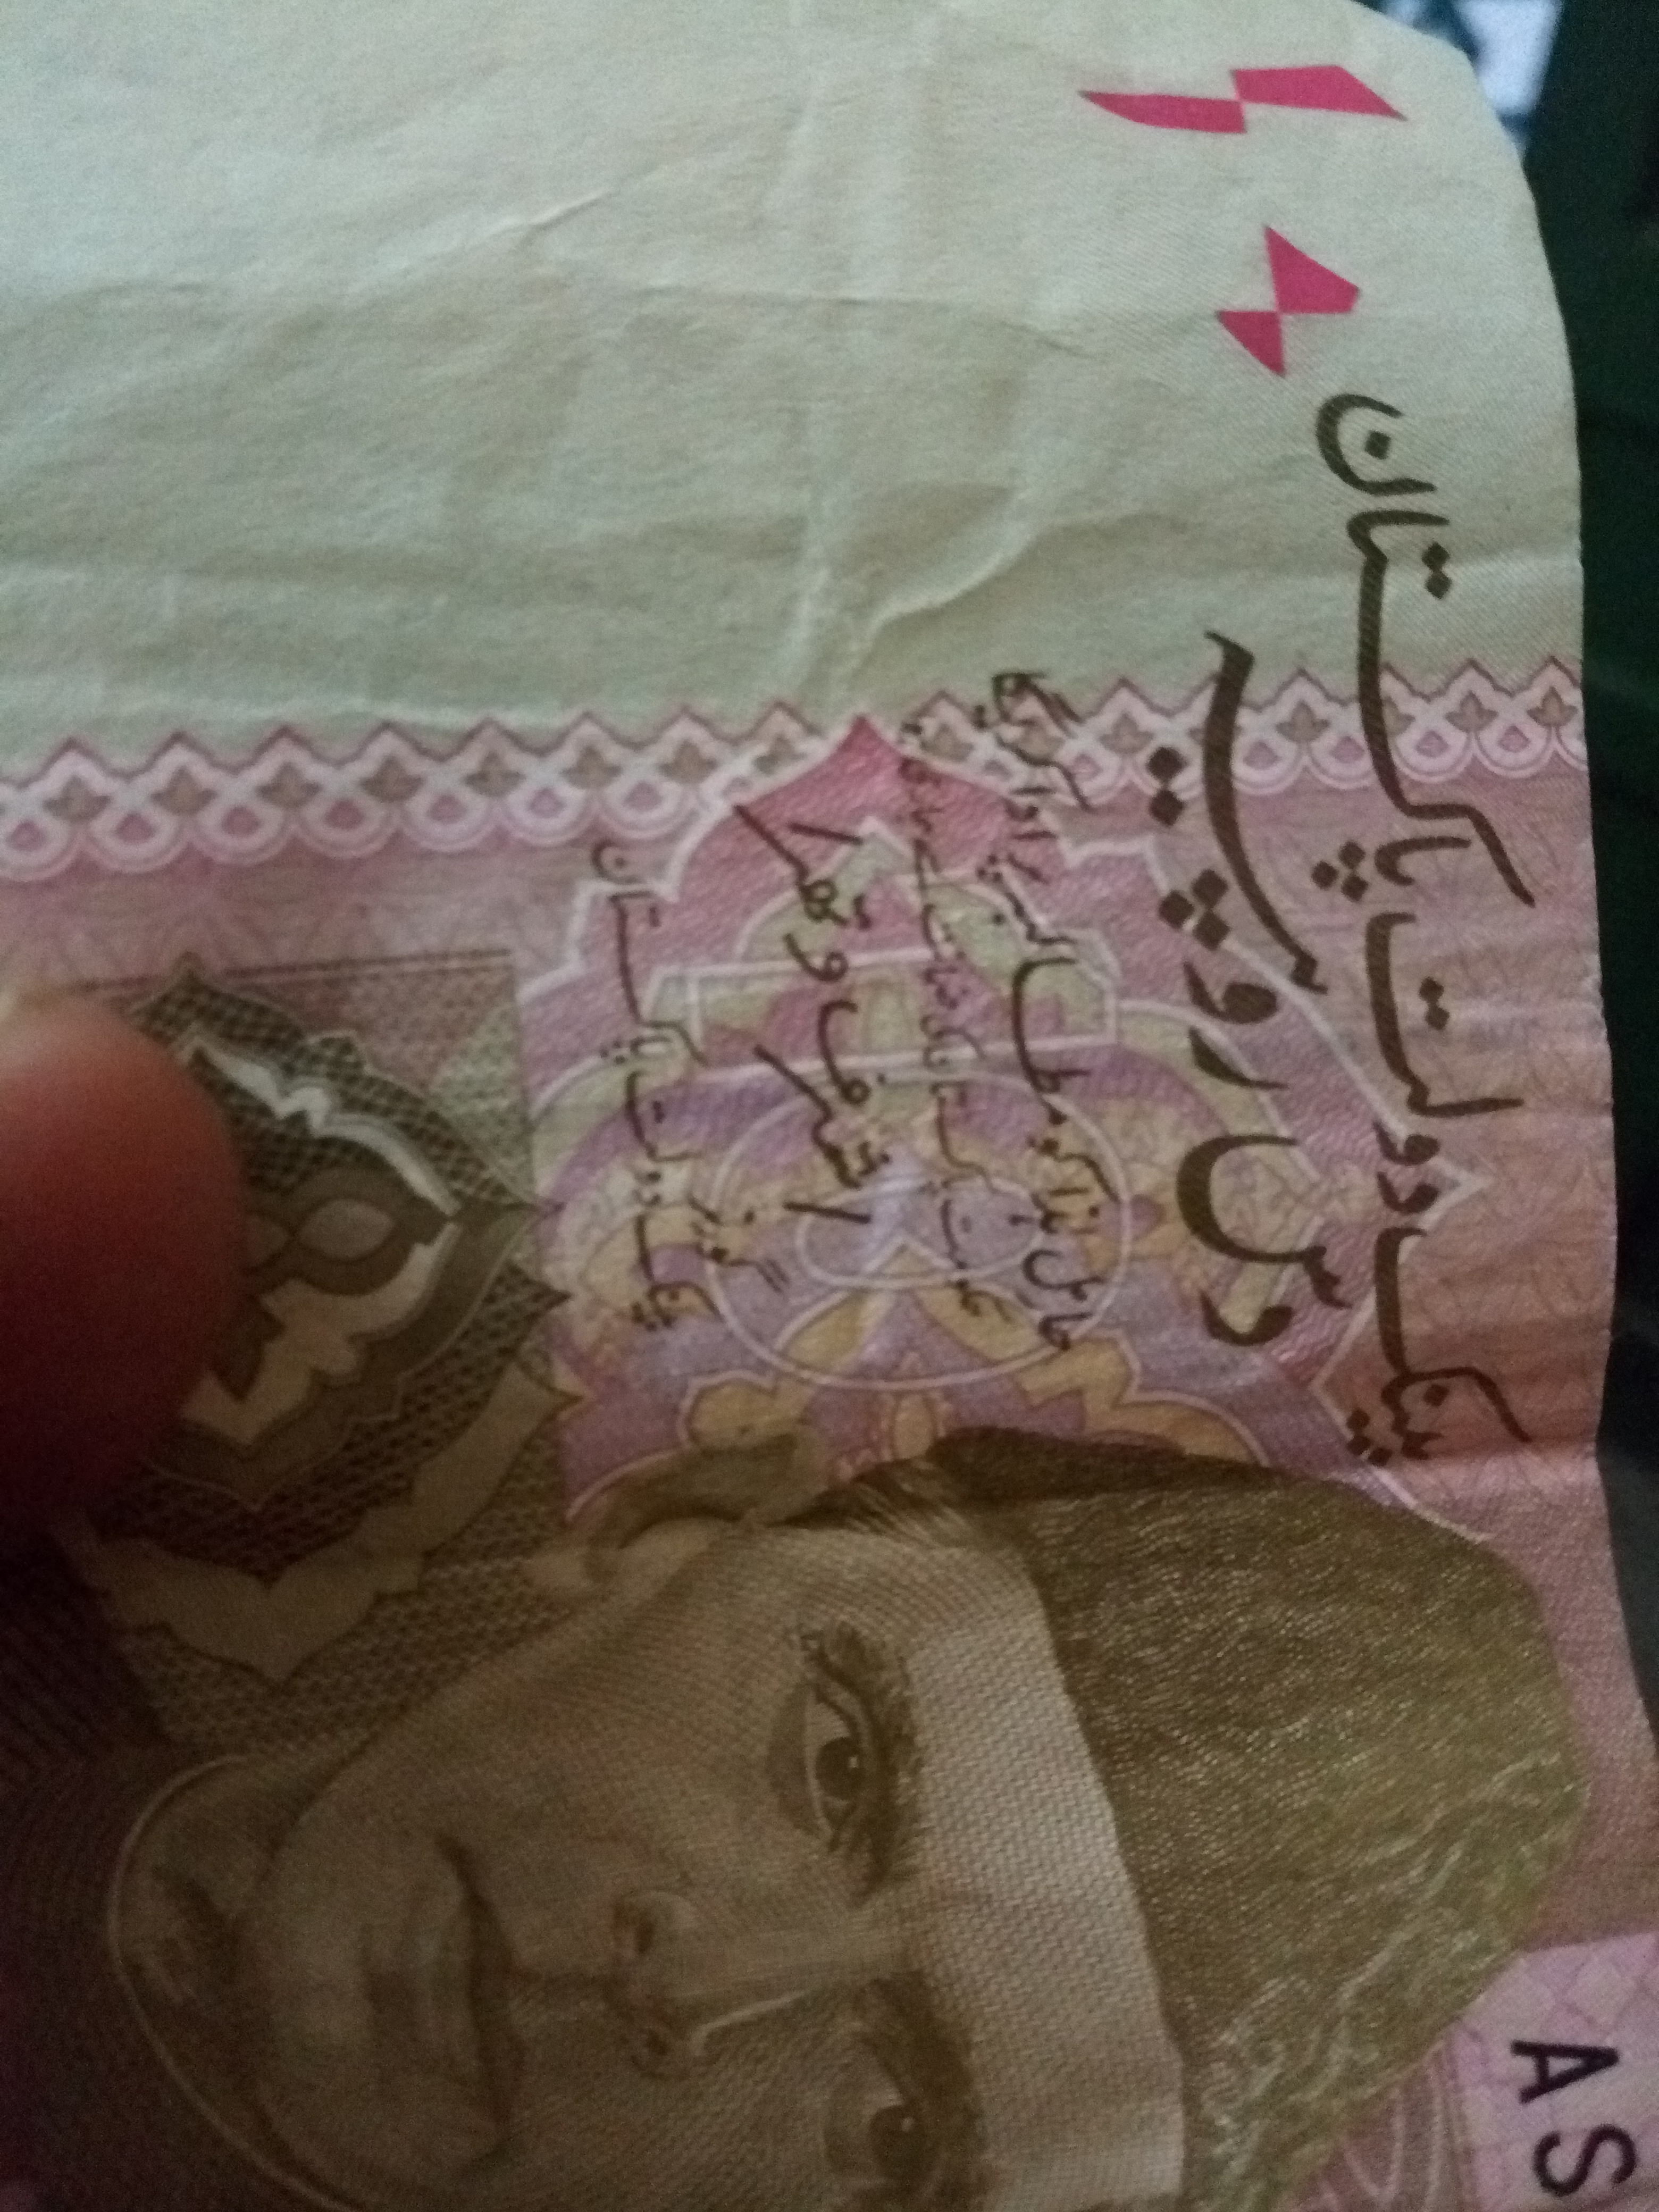10 rupee: (2, 47, 1638, 2174)
